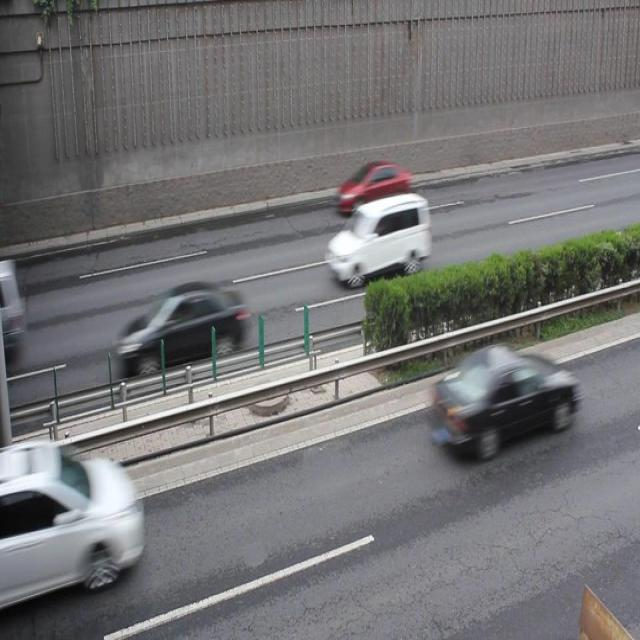car: (1, 444, 141, 614), (431, 340, 575, 459), (111, 281, 246, 377), (324, 193, 429, 285), (336, 157, 410, 215)
